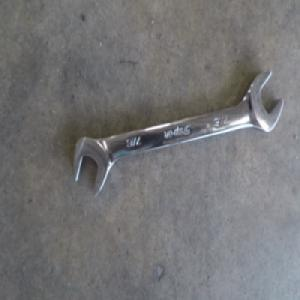Wrench: (74, 72, 278, 198)
